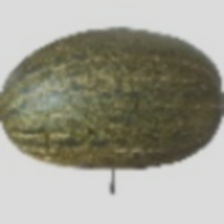honeydew: (23, 38, 213, 212)
